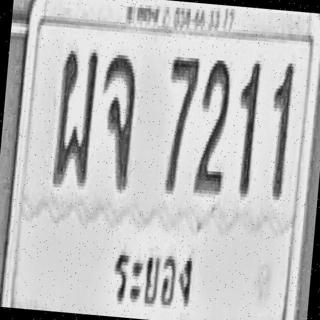A08: (94, 49, 139, 188)
A28: (52, 44, 99, 186)
N01: (264, 57, 294, 198), (231, 56, 261, 194)
N02: (192, 54, 233, 194)
N07: (160, 51, 200, 194)
P53: (105, 234, 198, 320)
